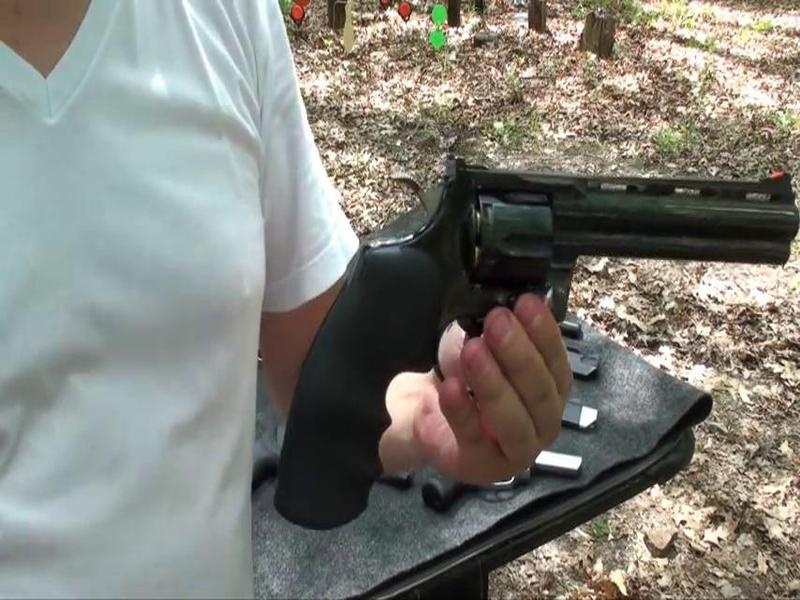Revolver: (270, 112, 798, 515)
